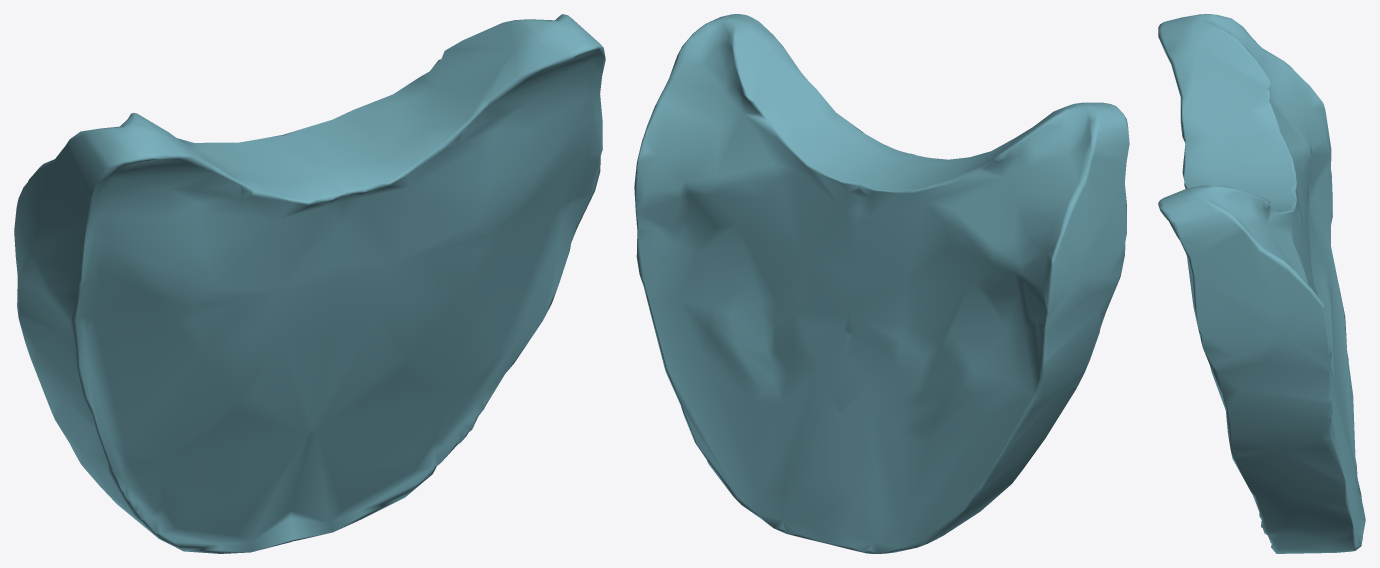
The picture shows the model from 3 angles, left to right: view 1: azimuth 30°, elevation 25°; view 2: azimuth 150°, elevation 25°; view 3: azimuth 270°, elevation 25°; orthographic projection. The views are drawn at different scales.
Parts seen in each view (by area): view 1: 胸4—胸5椎间盘; view 2: 胸4—胸5椎间盘; view 3: 胸4—胸5椎间盘.
Part boxes in pixels (x1,y1,x2,y2): 胸4—胸5椎间盘: (14, 14, 605, 553); 胸4—胸5椎间盘: (634, 14, 1129, 553); 胸4—胸5椎间盘: (1158, 14, 1365, 553).
Size of the model in its own units: 0.0473 by 0.0438 by 0.0195.
